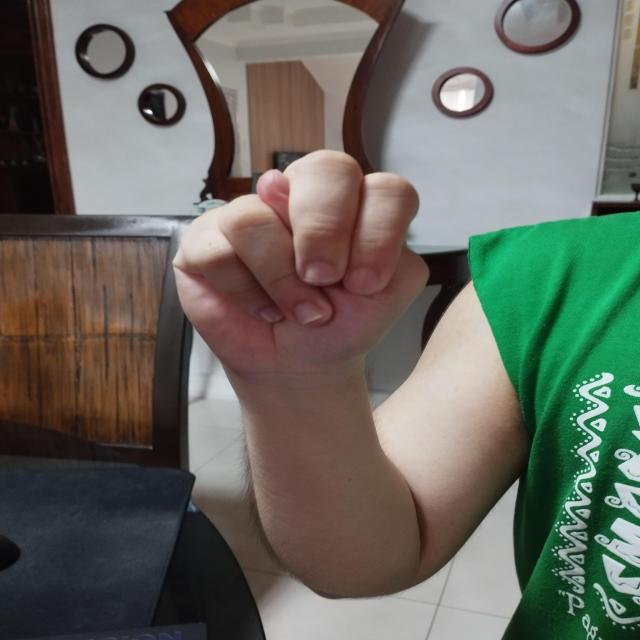N: (171, 147, 432, 379)
